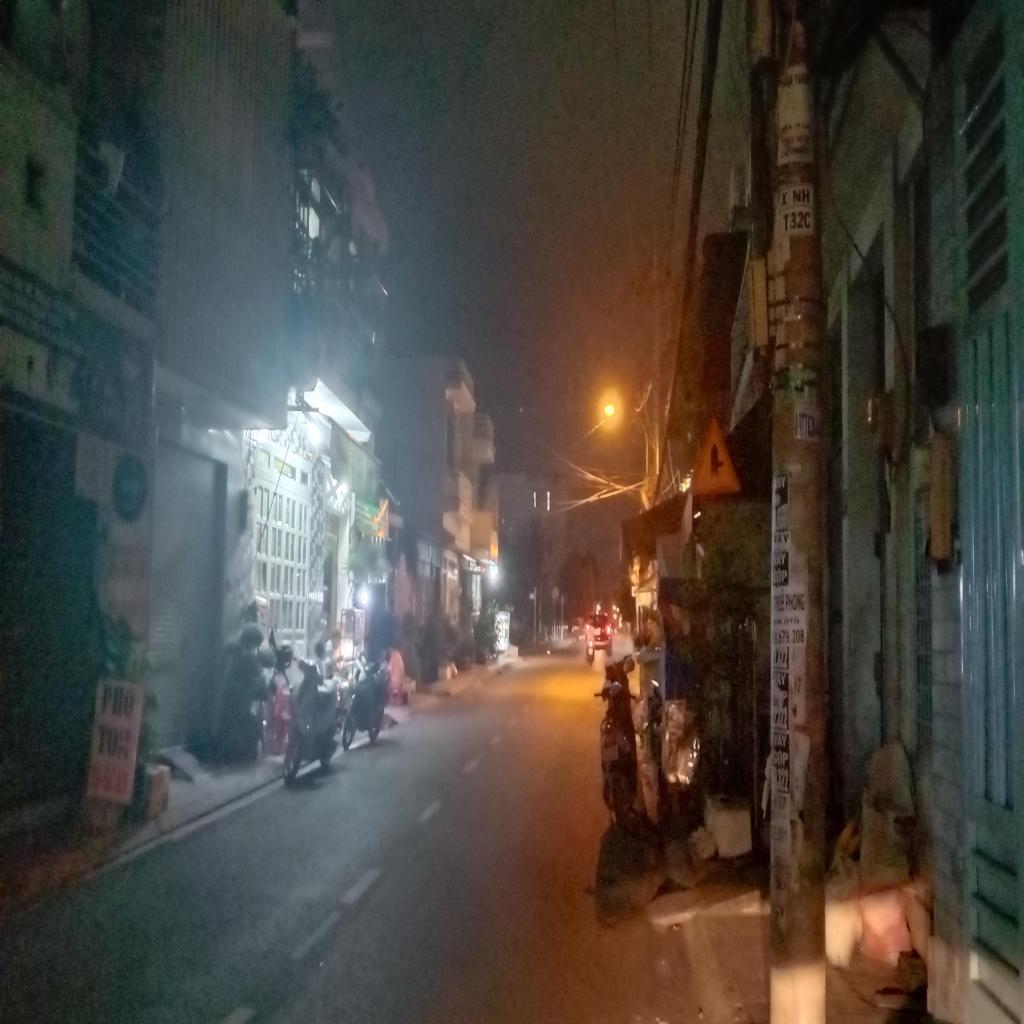giao_nhau_voi_duong_khong_uu_tien: (686, 405, 742, 494)
